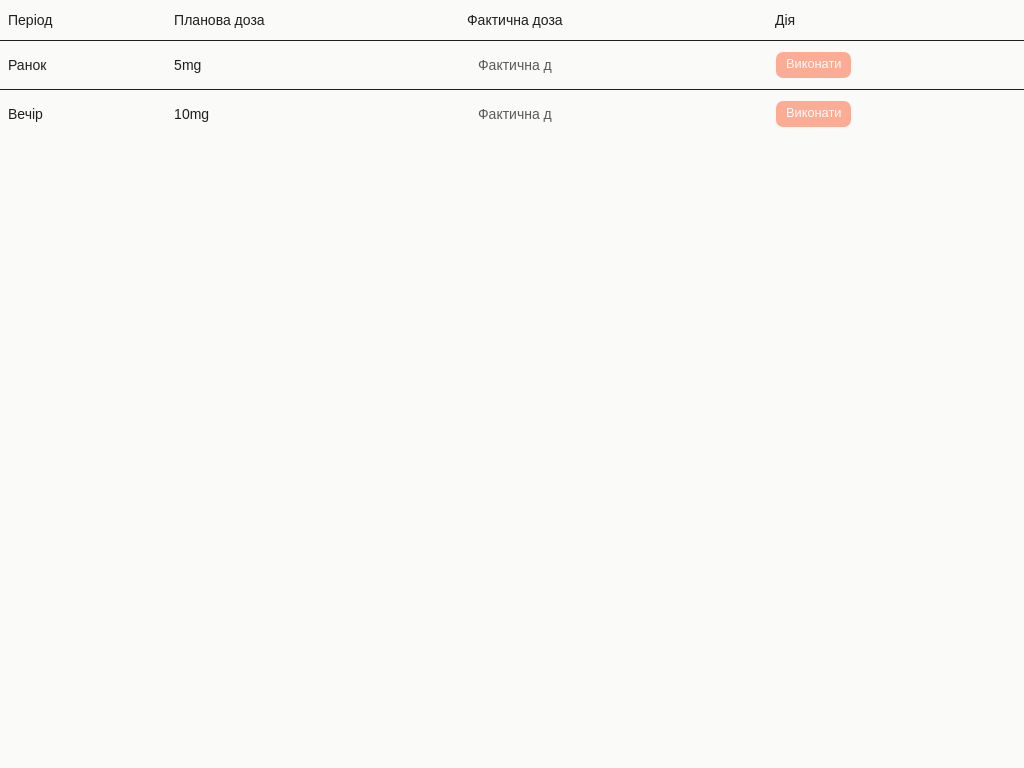
PrescriptionExecutionPanel › opens 2FA dialog with login fields on execute click
Type "5mg" into the field with placeholder "Фактична доза" in the row of "Ранок" at point(515, 64), box [467, 48, 563, 80]
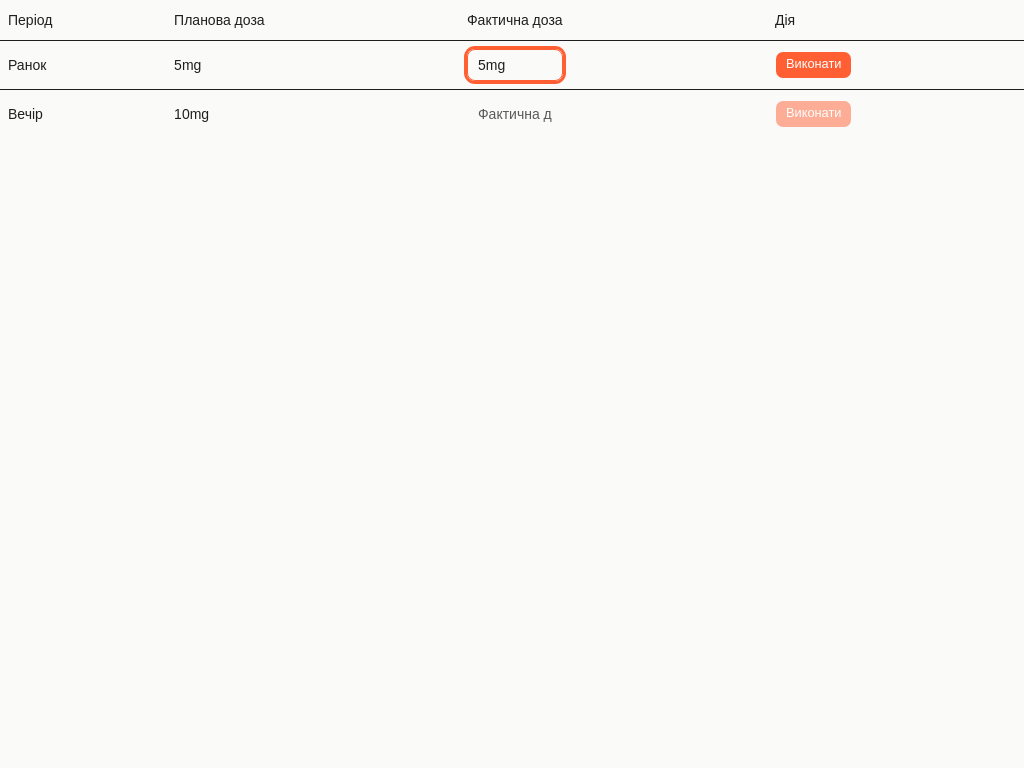
Click the button "Виконати" in the row of "Ранок" at point(814, 64), box [775, 50, 852, 78]
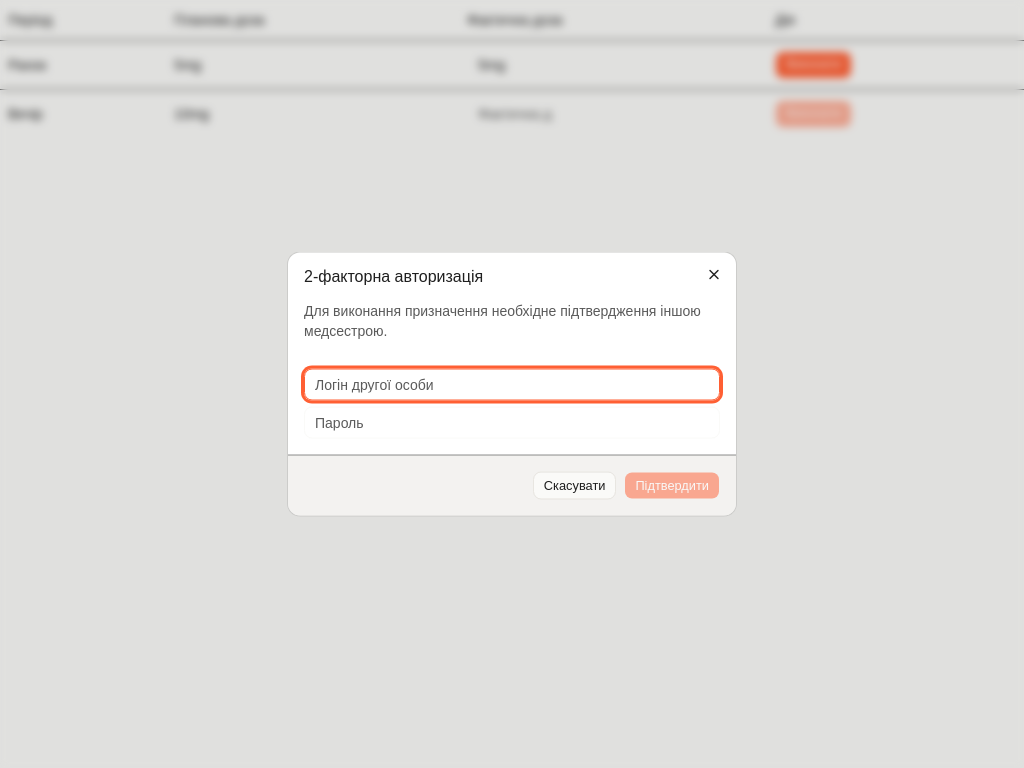
Check: the heading "2-факторна авторизація" is shown, box [304, 268, 483, 284]
Check: the field with placeholder "Логін другої особи" is shown, box [304, 368, 720, 400]
Check: the password field with placeholder "Пароль" is shown, box [304, 406, 720, 438]
